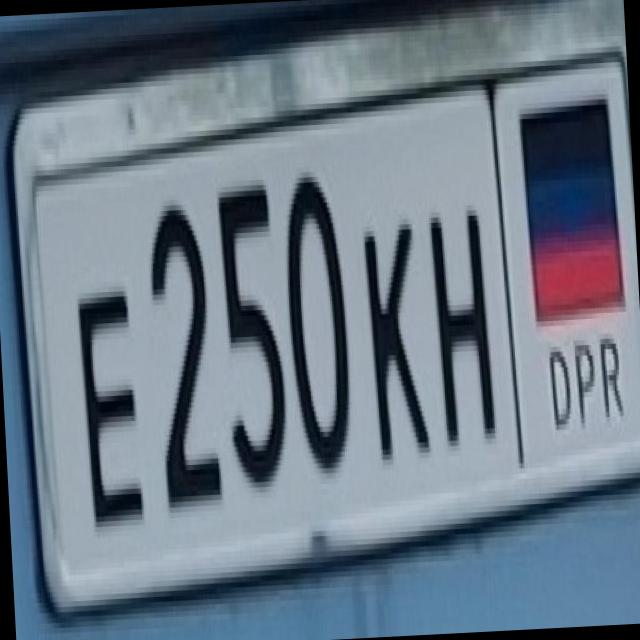0: (270, 154, 364, 476)
2: (132, 182, 232, 514)
5: (205, 158, 296, 489)
E: (69, 274, 153, 522)
H: (420, 189, 502, 452)
K: (356, 198, 436, 460)
